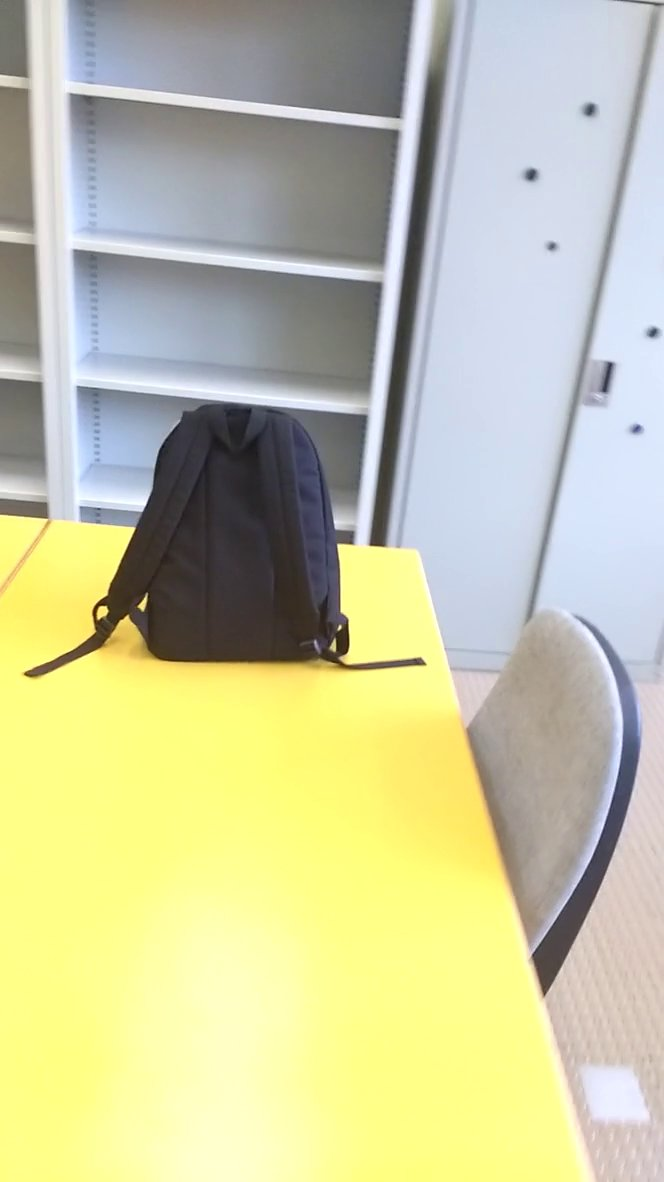bag: (25, 398, 431, 685)
chair: (455, 594, 654, 1008)
